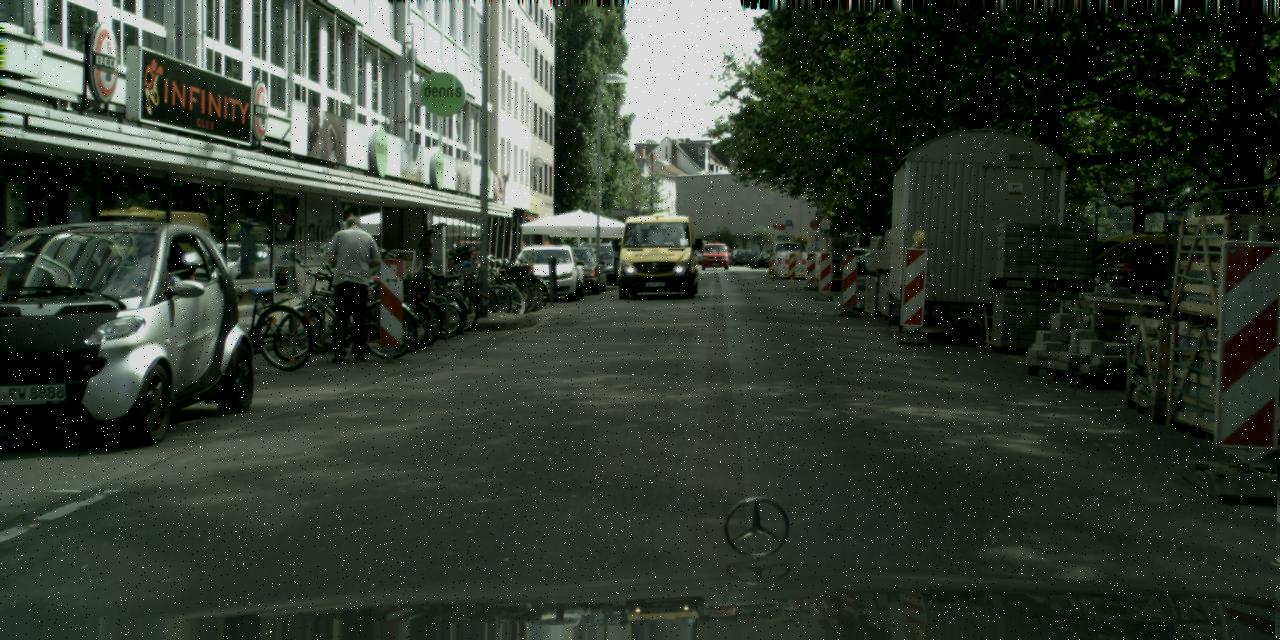ped: (321, 215, 380, 360), (420, 230, 440, 282)
